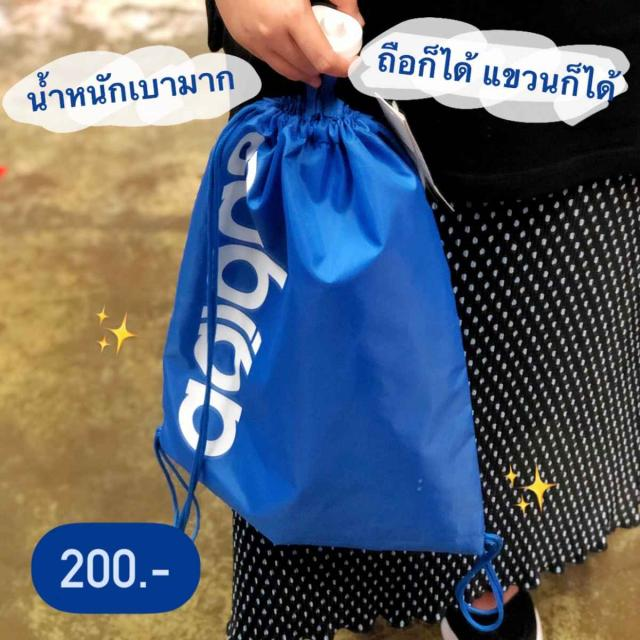handbag: (156, 105, 493, 572)
